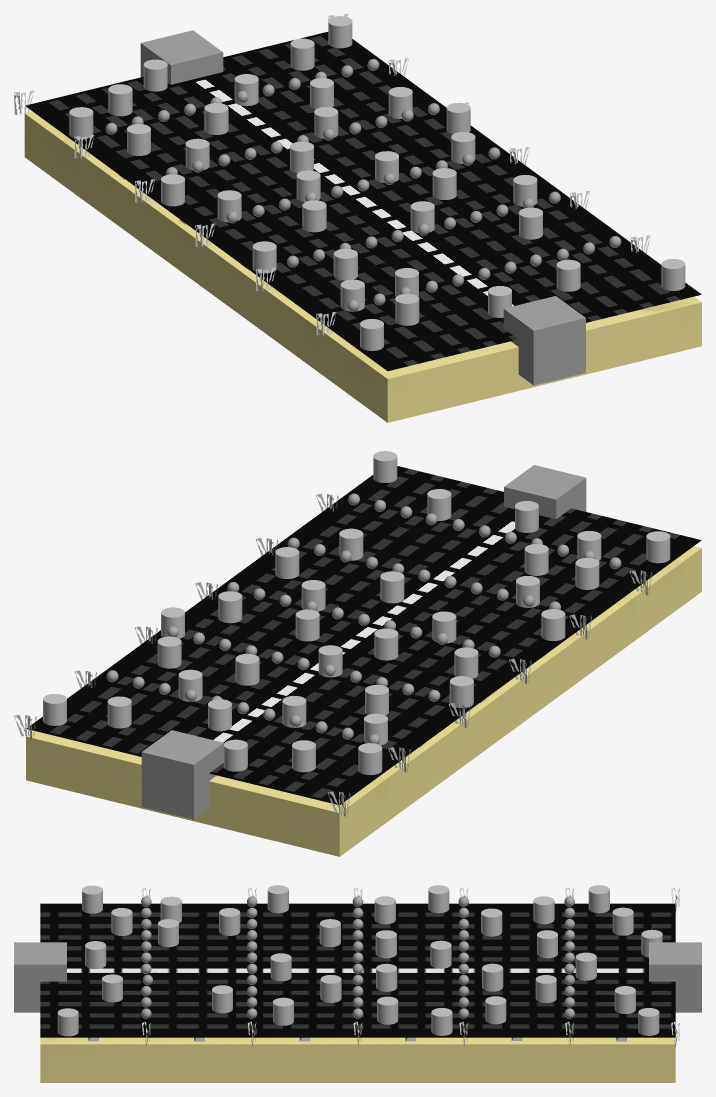
The model's file is assets013_Streckenteil_gerade001.fbx.
3 views of the same model, one above another, from view 1: azimuth 30°, elevation 25°; view 2: azimuth 150°, elevation 25°; view 3: azimuth 270°, elevation 25° (orthographic). The views are drawn at different scales.
Visible parts, largest first — view 1: streckenteil_gerade_indicator_geo, streckenteil_gerade_geo, b (×12), a (×11), startpoint, c (×7), endpoint, d (×2); view 2: streckenteil_gerade_indicator_geo, streckenteil_gerade_geo, a (×12), b (×10), endpoint, c (×6), startpoint, d (×2); view 3: streckenteil_gerade_indicator_geo, streckenteil_gerade_geo, b (×12), a (×12), c (×7), startpoint, endpoint, d (×2).
Boxes of the visible parts, x1,y1,x2,y2 form: streckenteil_gerade_indicator_geo: (25,32,701,371); streckenteil_gerade_geo: (24,111,701,422); b (×12): (204,38,475,325); a (×11): (296,151,685,350); startpoint: (503,296,585,385); c (×7): (127,16,412,206); endpoint: (140,30,223,84); d (×2): (69,84,132,139); streckenteil_gerade_indicator_geo: (26,466,701,805); streckenteil_gerade_geo: (26,546,701,856); a (×12): (275,451,670,660); b (×10): (107,580,565,731); endpoint: (141,730,223,819); c (×6): (43,636,473,771); startpoint: (504,465,586,519); d (×2): (292,740,382,774); streckenteil_gerade_indicator_geo: (40,903,675,1037); streckenteil_gerade_geo: (40,1037,675,1082); b (×12): (111,885,635,1035); a (×12): (57,885,397,1036); c (×7): (428,885,662,1035); startpoint: (14,942,66,1012); endpoint: (649,942,701,1012); d (×2): (588,885,633,935).
Bounding box in the file's own units: 32.03 × 6.73 × 65.
